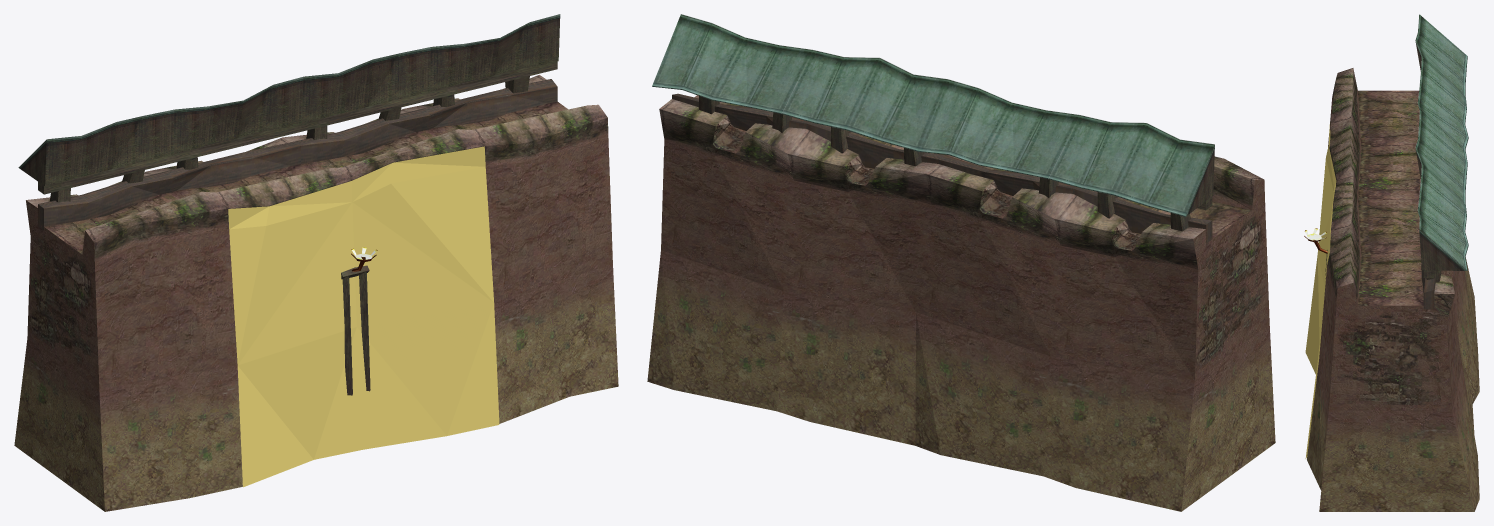
The model's file is C1SMWA20TORCH_H.obj.
3 views of the same model, side by side, from view 1: azimuth 30°, elevation 25°; view 2: azimuth 150°, elevation 25°; view 3: azimuth 270°, elevation 25° (orthographic). The views are drawn at different scales.
Visible parts, largest first — view 1: Node 0, Node 3; view 2: Node 0; view 3: Node 0, Node 3.
Part boxes in pixels (x1,y1,x2,y2): Node 0: (14,14,618,511); Node 3: (228,146,499,487); Node 0: (647,14,1275,511); Node 0: (1304,14,1479,511); Node 3: (1305,124,1336,458).
Size of the model in its own units: 20 by 12.54 by 6.9.
6 materials, 6 textured.
